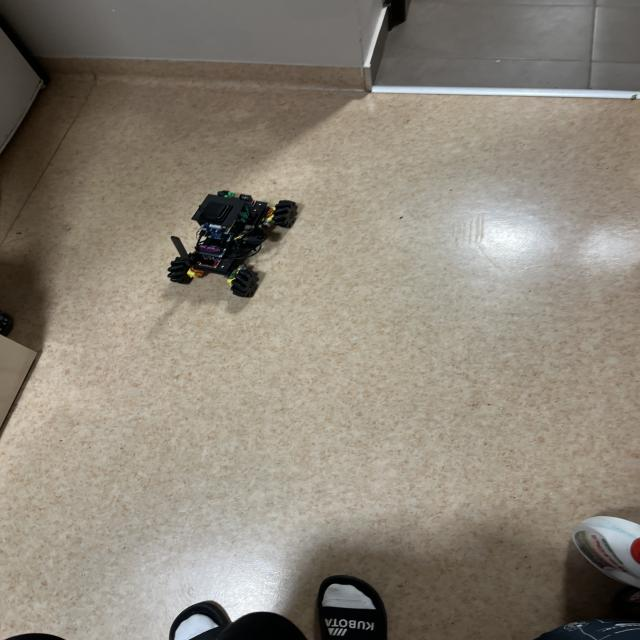robot: (168, 191, 297, 297)
